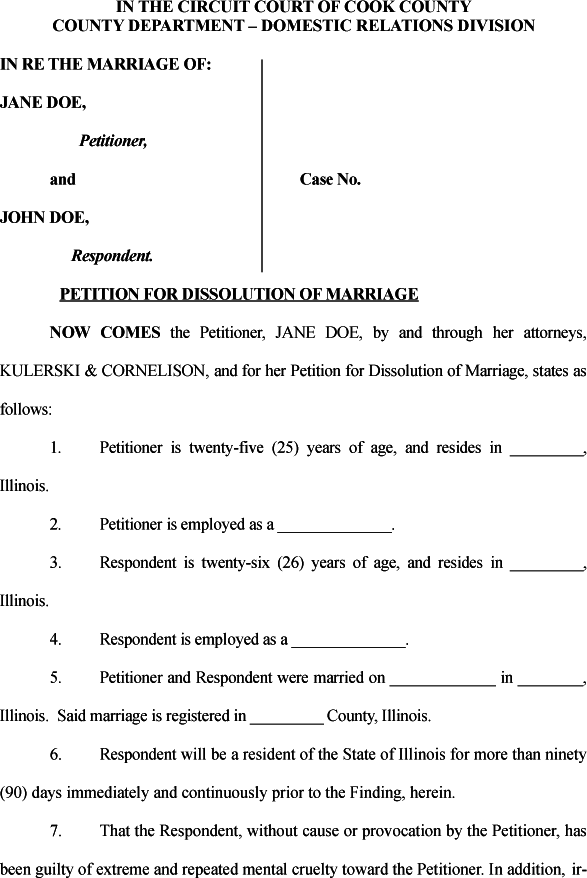textline: (288, 629, 411, 651), (276, 515, 396, 536), (387, 670, 498, 690), (247, 705, 326, 729), (507, 438, 587, 460), (509, 553, 587, 575), (515, 669, 587, 689)
